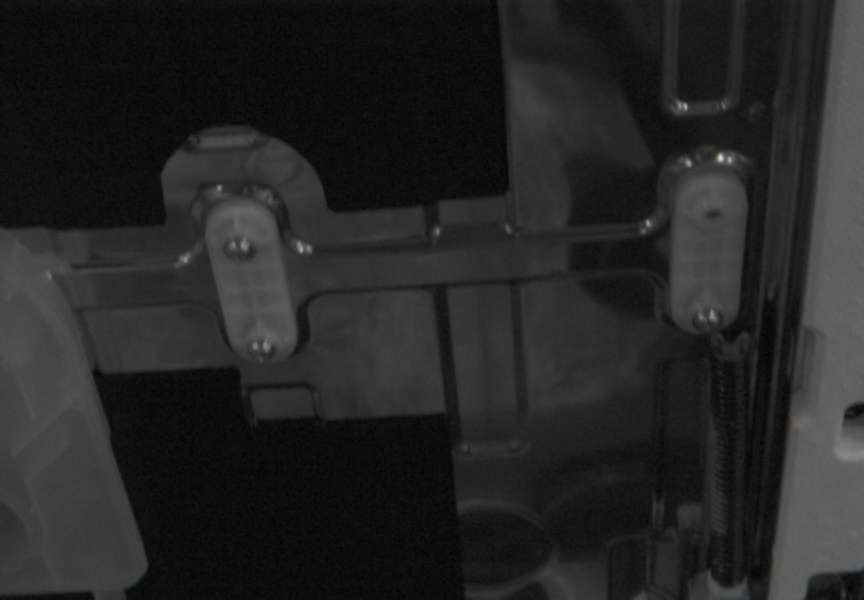missing_screw: (698, 200, 734, 232)
screw: (223, 235, 257, 262), (692, 307, 723, 333), (248, 337, 277, 363)
